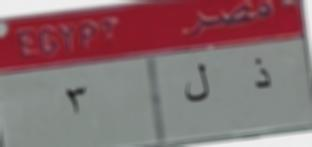3: (64, 82, 93, 114)
laam: (178, 57, 215, 107)
zaal: (244, 58, 283, 95)
